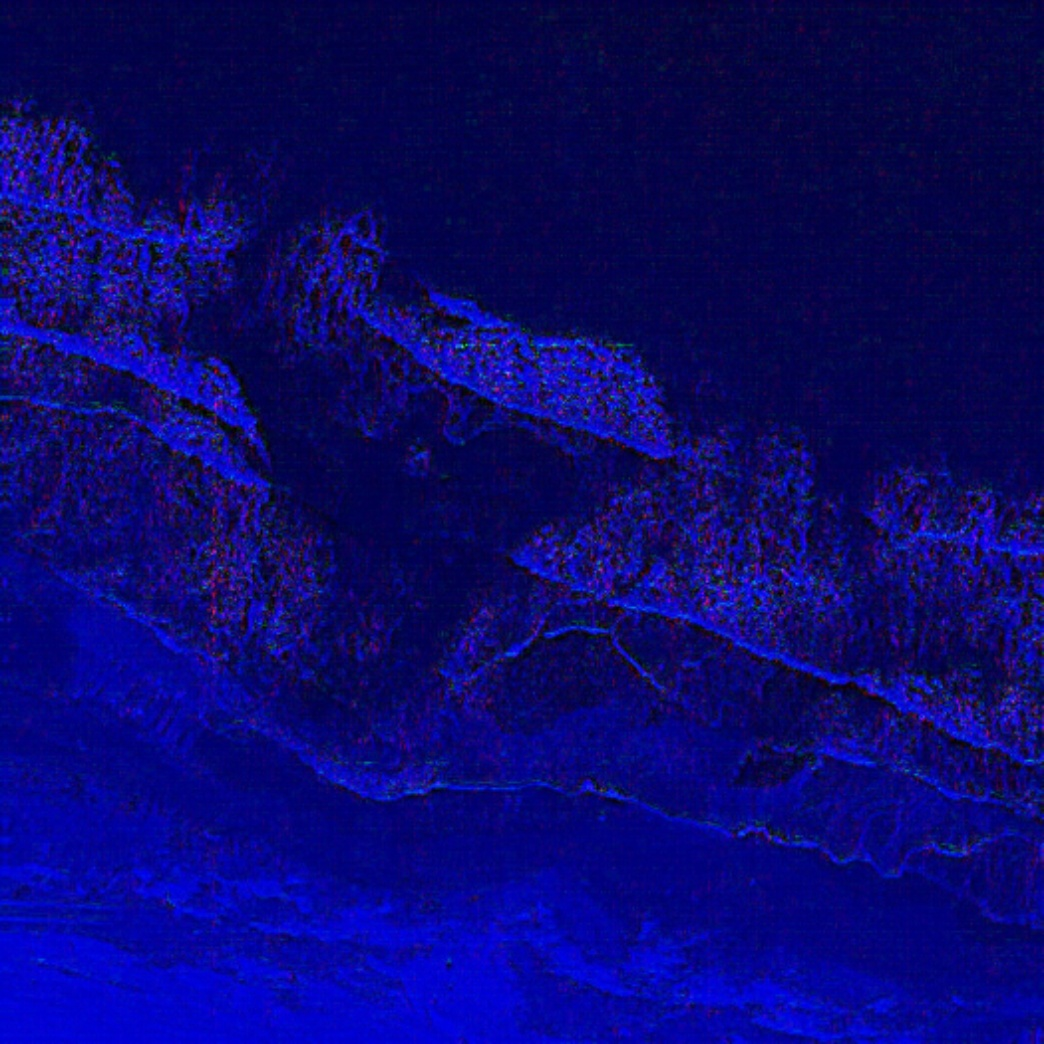rip_current: (290, 289, 702, 703)
